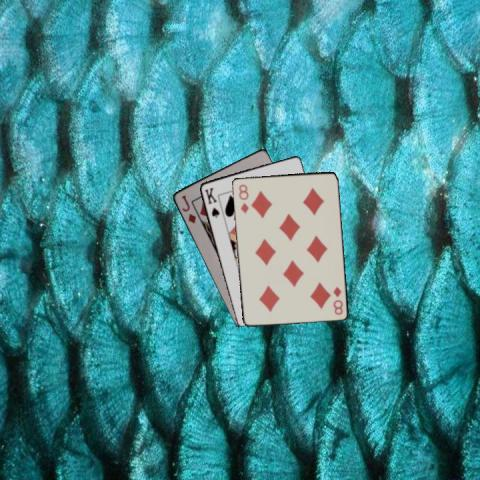8d: (235, 181, 250, 215), (330, 283, 344, 316)
Jd: (178, 192, 197, 225)
Ks: (201, 184, 221, 218)
